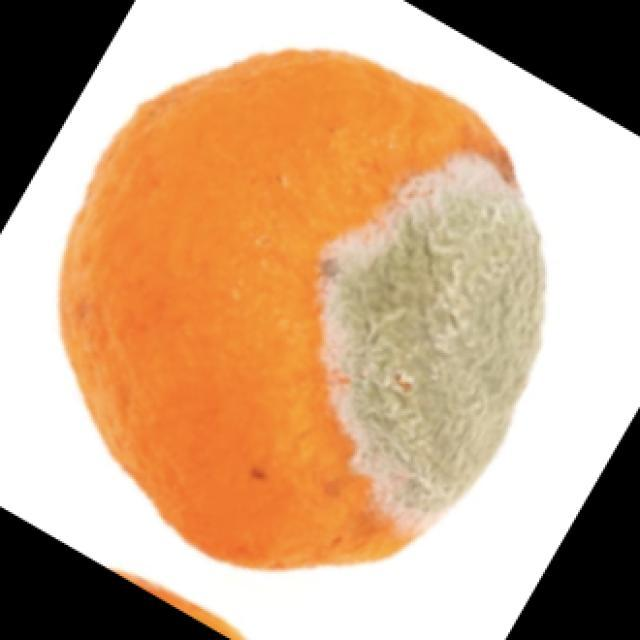sedikit-busuk: (60, 50, 543, 568)
